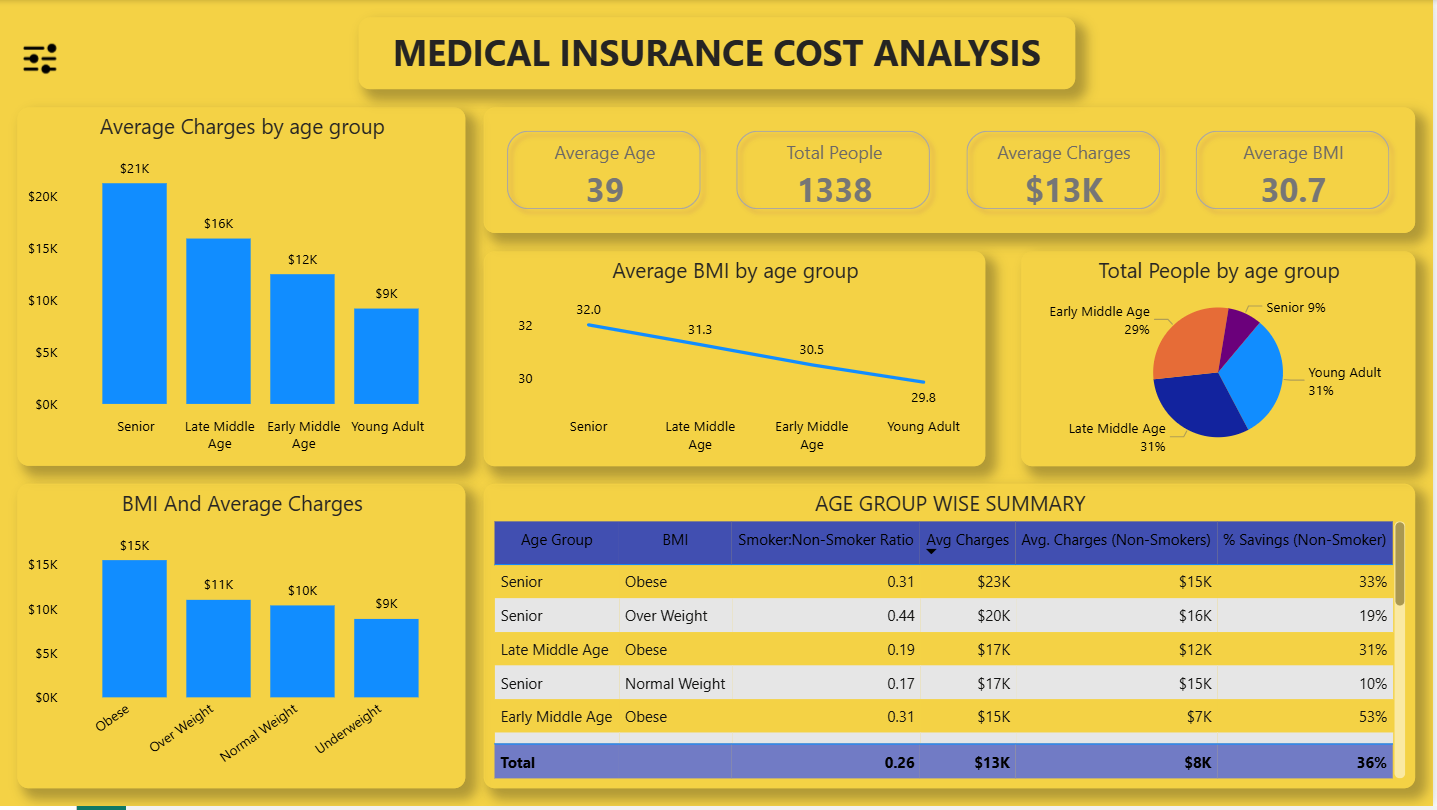

Layout of this report page (visuals, bound fields, positions):
{"tool":"powerbi","page":{"name":"Page 1","canvas":[1280,720],"ordinal":0},"visuals":[{"type":"clusteredColumnChart","fields":{"Category":["insurance.age group"],"Y":["insurance.Average Charges"]},"box":[16,96,400,320],"z":0},{"type":"pieChart","fields":{"Category":["insurance.age group"],"Y":["insurance.Total People"]},"box":[912,224,352,192],"z":1000},{"type":"lineChart","fields":{"Category":["insurance.age group"],"Y":["insurance.Median BMI"]},"box":[432,224,448,192],"z":2000},{"type":"clusteredColumnChart","title":"BMI And Average Charges","fields":{"Y":["insurance.Average Charges"],"Category":["insurance.bmi category"]},"box":[16,432,400,272],"z":3000},{"type":"tableEx","title":"AGE GROUP WISE SUMMARY","fields":{"Values":["insurance.age group","insurance.bmi category","insurance.Ration of smoker to non smoker","insurance.Average Charges","insurance.Average Charges No smoking","insurance.% less charges if no smoking"]},"box":[432,432,832,272],"z":4000},{"type":"textbox","box":[320,16,640,64],"z":5000},{"type":"cardVisual","title":"main card","fields":{"Data":["insurance.Average Age","insurance.Total People","insurance.Average Charges","insurance.Average BMI"]},"box":[432,96,832,112],"z":6000},{"type":"actionButton","title":"fILTER LOGO","box":[16,32,40,40],"z":7000}]}

Visuals, with their boxes in screenshot pixels (x1, y1, x2, y2), scaled from the page's 1280x720 canvas onto the 1437x810 screenshot:
clusteredColumnChart - insurance.age group x insurance.Average Charges: {"x1": 18, "y1": 108, "x2": 467, "y2": 468}
pieChart - insurance.age group x insurance.Total People: {"x1": 1024, "y1": 252, "x2": 1419, "y2": 468}
lineChart - insurance.age group x insurance.Median BMI: {"x1": 485, "y1": 252, "x2": 988, "y2": 468}
"BMI And Average Charges" clusteredColumnChart: {"x1": 18, "y1": 486, "x2": 467, "y2": 792}
"AGE GROUP WISE SUMMARY" tableEx: {"x1": 485, "y1": 486, "x2": 1419, "y2": 792}
textbox: {"x1": 359, "y1": 18, "x2": 1078, "y2": 90}
"main card" cardVisual: {"x1": 485, "y1": 108, "x2": 1419, "y2": 234}
"fILTER LOGO" actionButton: {"x1": 18, "y1": 36, "x2": 63, "y2": 81}
